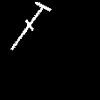double_crochet: (11, 2, 50, 49)
